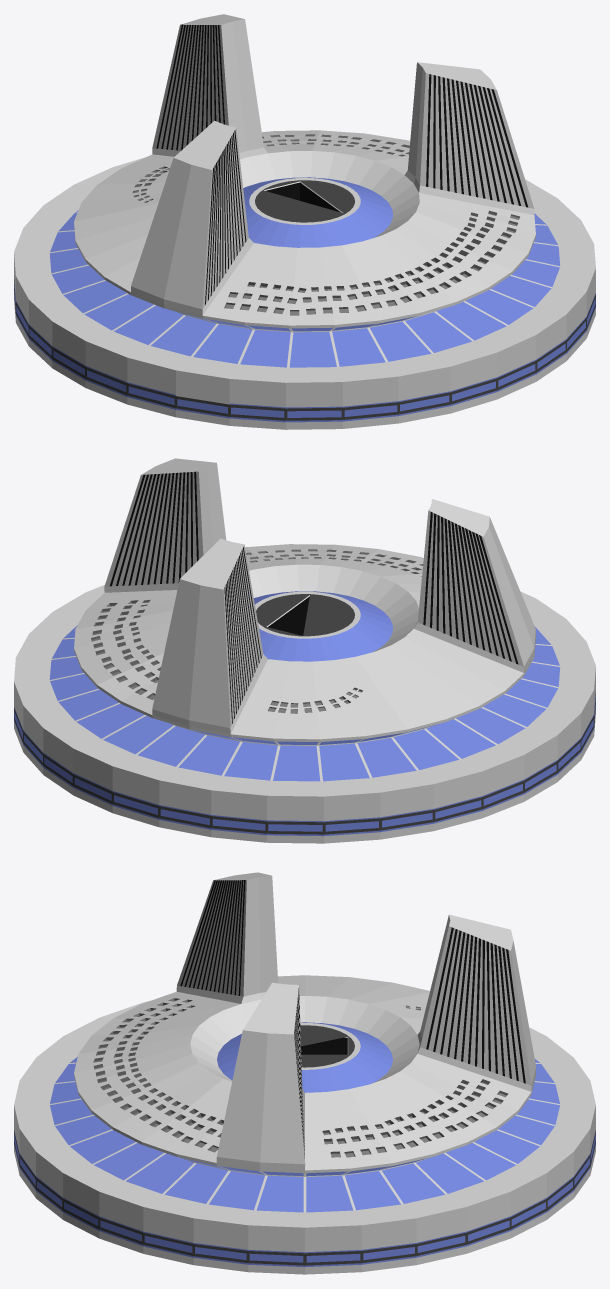
Rendered from Star Labs.fbx.
3 views of the same model, one above another, from view 1: azimuth 30°, elevation 25°; view 2: azimuth 150°, elevation 25°; view 3: azimuth 270°, elevation 25° (orthographic).
Parts seen in each view (by area): view 1: Circle; view 2: Circle; view 3: Circle.
Boxes of the visible parts, x1,y1,x2,y2 form: Circle: (14,14,595,429); Circle: (14,458,595,843); Circle: (14,872,595,1274).
Size of the model in its own units: 6255 by 2745 by 6255.
